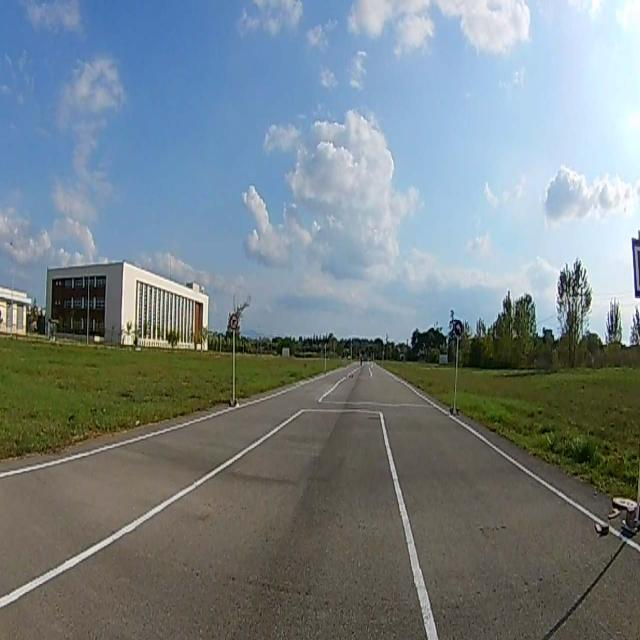sol: (454, 320, 462, 335)
